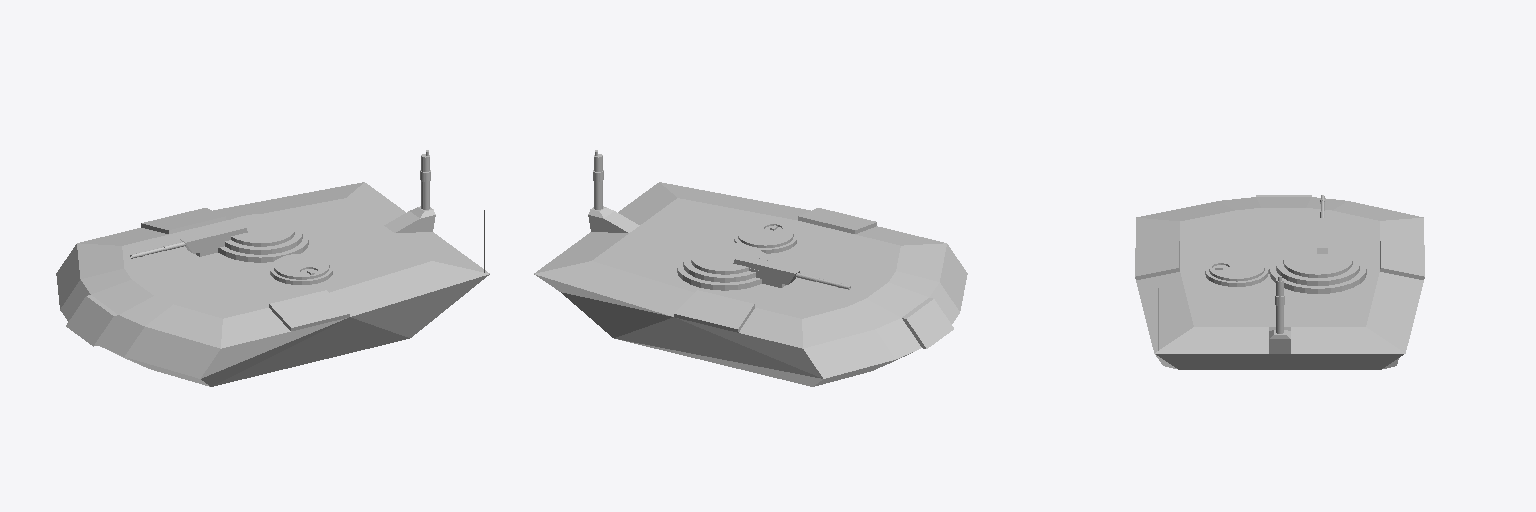
Rendered from kupola.obj.
3 views of the same model, side by side, from view 1: azimuth 30°, elevation 25°; view 2: azimuth 150°, elevation 25°; view 3: azimuth 270°, elevation 25° (orthographic).
Visible parts, largest first — view 1: Mesh3 Group1 Model, Mesh1 machine_gun1 Group1 Model; view 2: Mesh3 Group1 Model, Mesh1 machine_gun1 Group1 Model; view 3: Mesh3 Group1 Model.
Part boxes in pixels (x1,y1,x2,y2): Mesh3 Group1 Model: (56,150,489,386); Mesh1 machine_gun1 Group1 Model: (180,224,247,256); Mesh3 Group1 Model: (534,150,967,386); Mesh1 machine_gun1 Group1 Model: (733,255,800,287); Mesh3 Group1 Model: (1135,195,1424,369).
Size of the model in its own units: 209 by 72.32 by 150.